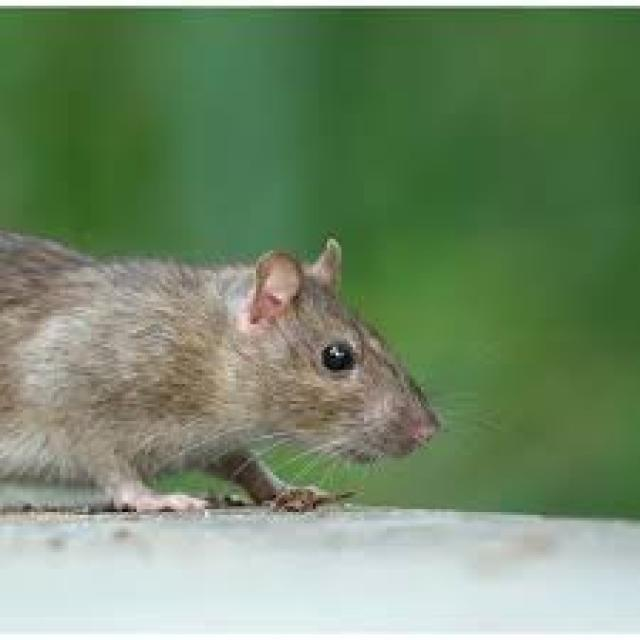rat: (0, 219, 444, 515)
